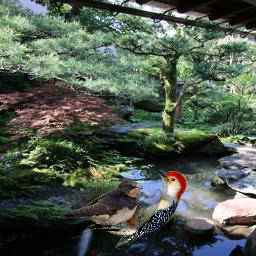Swallow: (63, 178, 143, 229)
Woodpecker: (86, 168, 187, 249)
